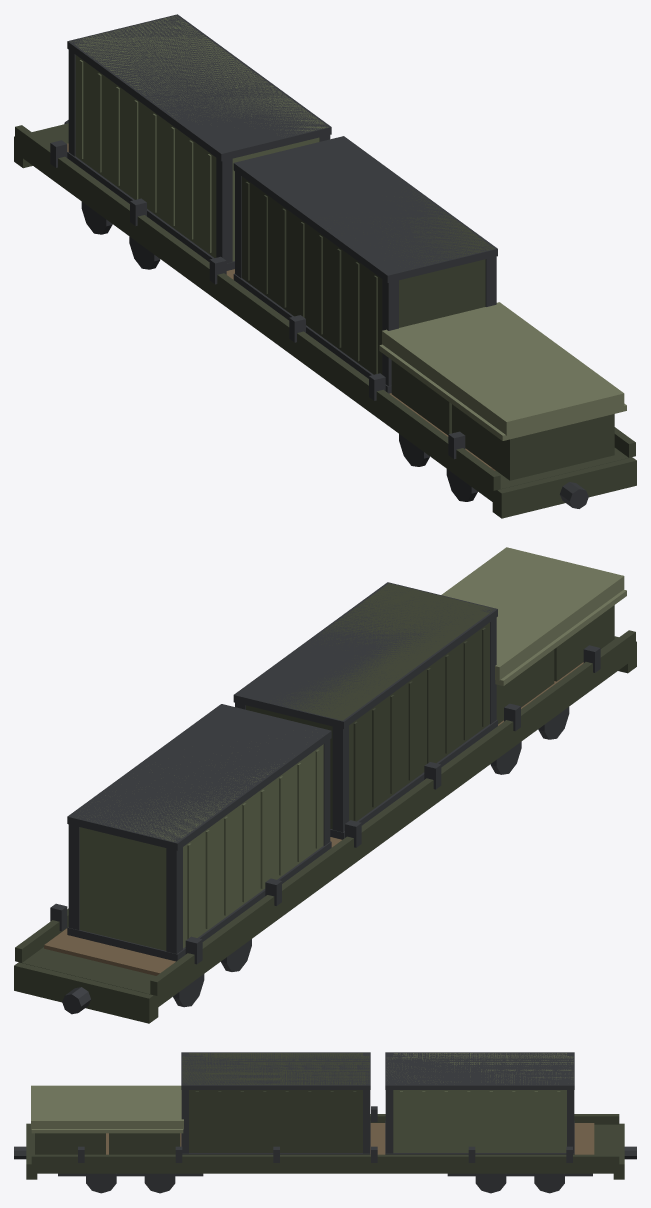
Rendered from Unit_MilitaryTrainFlat.obj.
3 renders of one model, top to bottom at view 1: azimuth 30°, elevation 25°; view 2: azimuth 150°, elevation 25°; view 3: azimuth 270°, elevation 25°, orthographic. The views are drawn at different scales.
Bounding box in the file's own units: 3.36 × 3.92 × 20.15.
